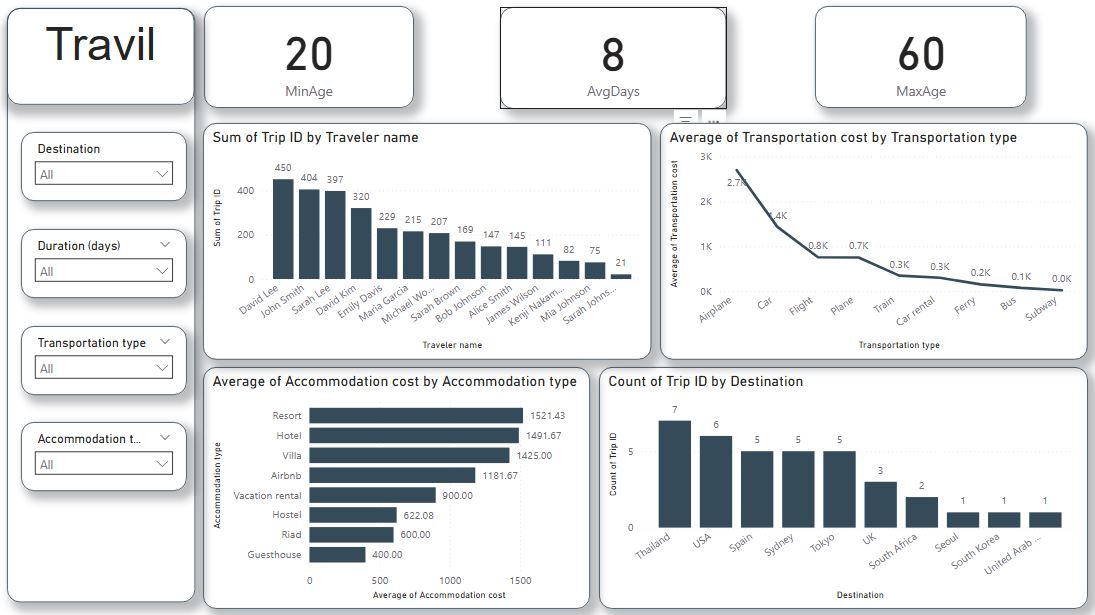

Layout of this report page (visuals, bound fields, positions):
{"tool":"powerbi","page":{"name":"Page 1","canvas":[1280,720],"ordinal":0},"visuals":[{"type":"shape","box":[16,16,218,688],"z":0},{"type":"textbox","box":[16,16,217,112],"z":1000},{"type":"card","fields":{"Values":["Travel details dataset.AvgDays"]},"box":[587.3,14.6,262.2,118],"z":2000},{"type":"slicer","fields":{"Values":["Travel details dataset.Destination"]},"box":[32,160,192,80],"z":3000},{"type":"columnChart","fields":{"Category":["Travel details dataset.Destination"],"Y":["Travel details dataset.Trip ID"]},"box":[701.1,431.3,566.2,279.9],"z":4000},{"type":"slicer","fields":{"Values":["Travel details dataset.Accommodation type"]},"box":[32,496,192,80],"z":5000},{"type":"barChart","fields":{"Y":["Travel details dataset.Accommodation cost"],"Category":["Travel details dataset.Accommodation type"]},"box":[243,431.3,447.9,279.9],"z":6000},{"type":"slicer","fields":{"Values":["Travel details dataset.Transportation type"]},"box":[32,384,192,80],"z":7000},{"type":"lineChart","fields":{"Category":["Travel details dataset.Transportation type"],"Y":["Travel details dataset.Transportation cost"]},"box":[772.3,148.9,495,273.6],"z":8000},{"type":"slicer","fields":{"Values":["Travel details dataset.Duration (days)"]},"box":[32,272,192,80],"z":9000},{"type":"card","fields":{"Values":["Travel details dataset.MinAge"]},"box":[244,14.1,242.9,118.2],"z":10000},{"type":"card","fields":{"Values":["Travel details dataset.MaxAge"]},"box":[951,14.1,245.5,118.2],"z":11000},{"type":"columnChart","fields":{"Category":["Travel details dataset.Traveler name"],"Y":["Travel details dataset.Trip ID"]},"box":[243,148.9,519.1,273.6],"z":12000}]}

Visuals, with their boxes in screenshot pixels (x1, y1, x2, y2), scaled from the page's 1280x720 canvas onto the 1095x615 screenshot:
shape: rect(14, 14, 200, 601)
textbox: rect(14, 14, 199, 109)
card - Travel details dataset.AvgDays: rect(502, 12, 727, 113)
slicer - Travel details dataset.Destination: rect(27, 137, 192, 205)
columnChart - Travel details dataset.Destination x Travel details dataset.Trip ID: rect(600, 368, 1084, 607)
slicer - Travel details dataset.Accommodation type: rect(27, 424, 192, 492)
barChart - Travel details dataset.Accommodation cost x Travel details dataset.Accommodation type: rect(208, 368, 591, 607)
slicer - Travel details dataset.Transportation type: rect(27, 328, 192, 396)
lineChart - Travel details dataset.Transportation type x Travel details dataset.Transportation cost: rect(661, 127, 1084, 361)
slicer - Travel details dataset.Duration (days): rect(27, 232, 192, 301)
card - Travel details dataset.MinAge: rect(209, 12, 417, 113)
card - Travel details dataset.MaxAge: rect(814, 12, 1024, 113)
columnChart - Travel details dataset.Traveler name x Travel details dataset.Trip ID: rect(208, 127, 652, 361)
